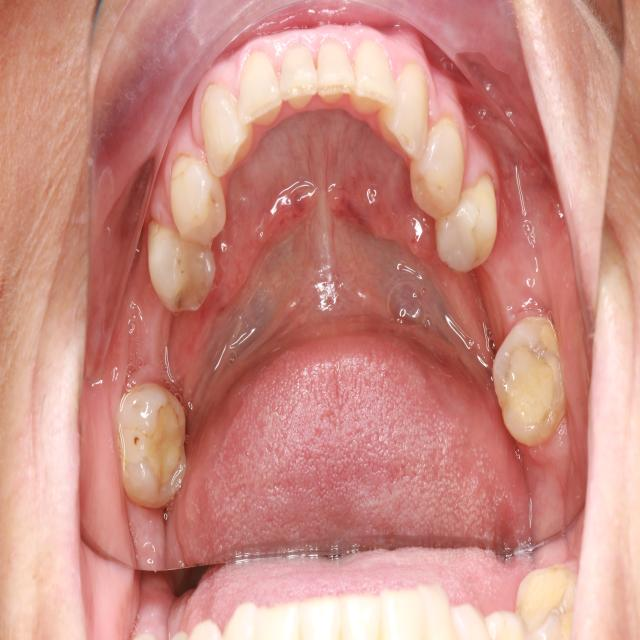tooth: (486, 305, 570, 451), (117, 376, 195, 522), (429, 154, 507, 284), (141, 209, 227, 318), (161, 142, 239, 250), (374, 55, 439, 182), (405, 107, 475, 223), (192, 81, 258, 187), (342, 24, 406, 132), (230, 49, 290, 150), (305, 23, 362, 117), (269, 37, 328, 111)
